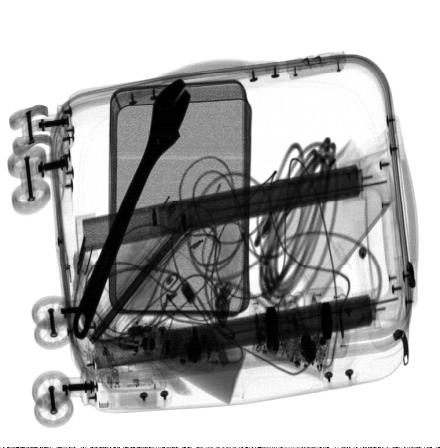Wrench: (72, 77, 192, 341)
